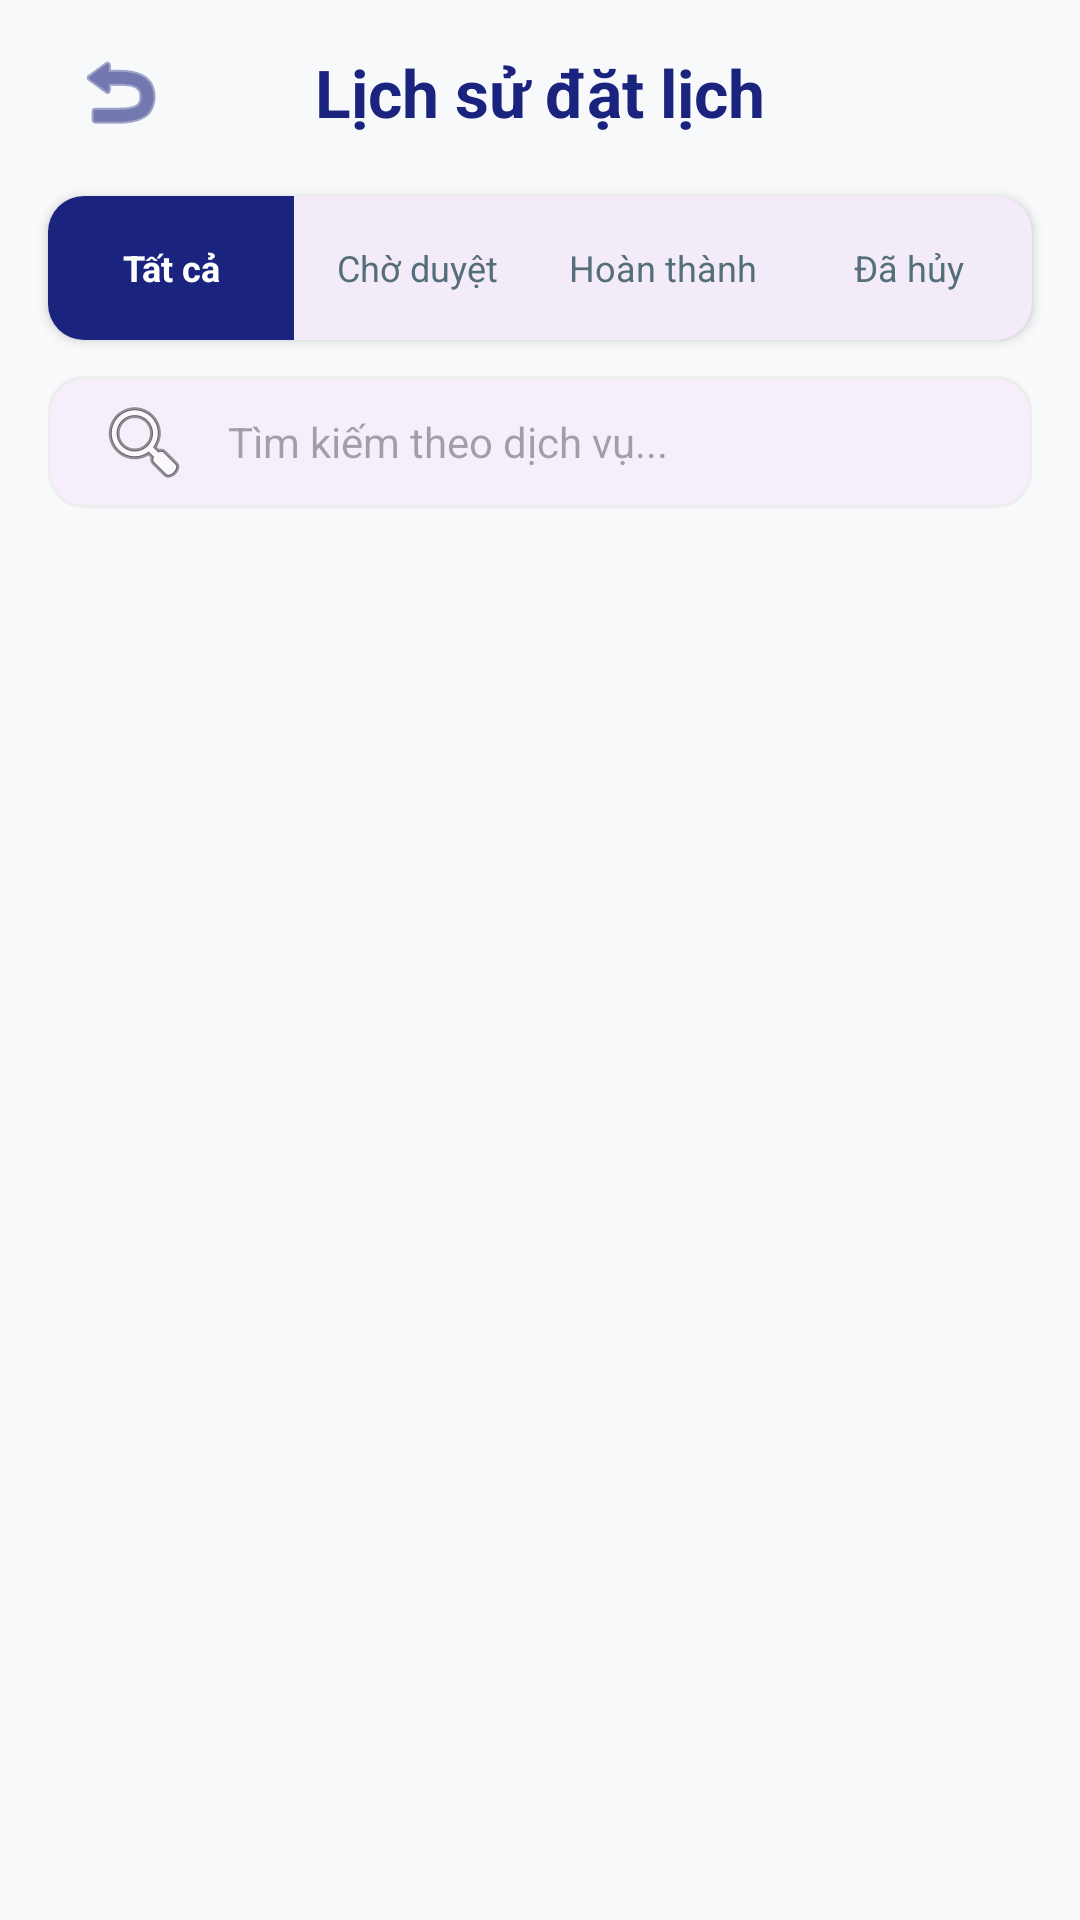

Where icons sit on this 1080x1920 app screen, as (x1, y1, x2, y2):
Back: (87, 61, 156, 124)
